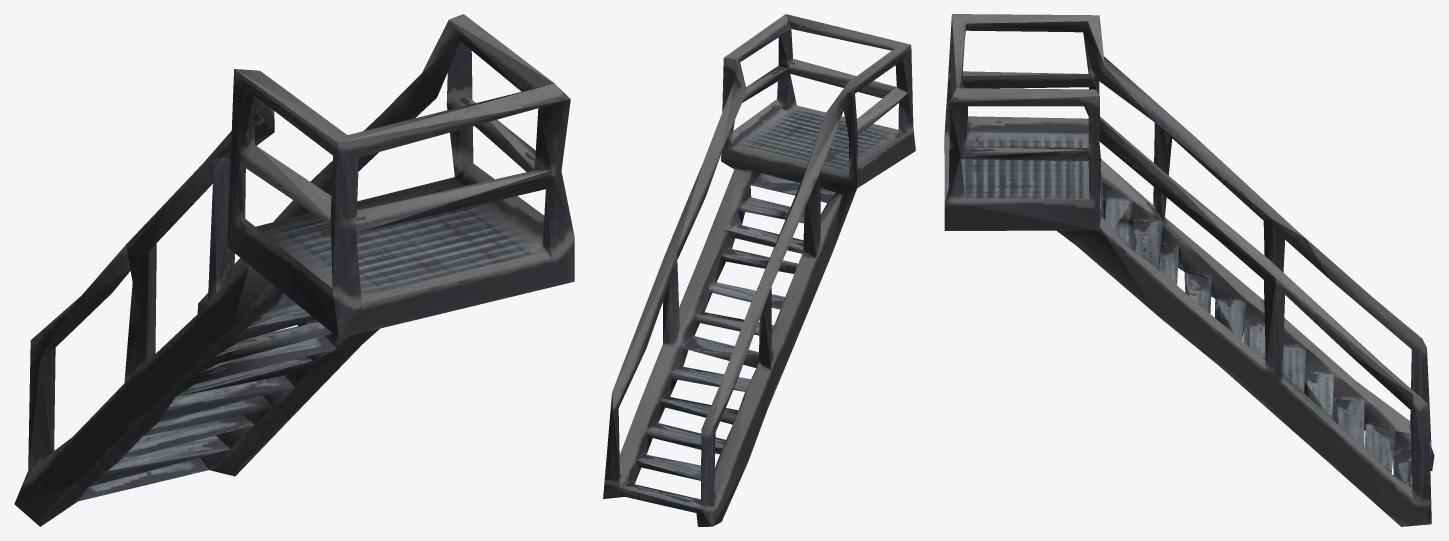
Rendered from metal-industrial-stairwell.glb.
The picture shows the model from 3 angles, left to right: view 1: azimuth 30°, elevation 25°; view 2: azimuth 150°, elevation 25°; view 3: azimuth 270°, elevation 25°; orthographic projection. The views are drawn at different scales.
Parts seen in each view (by area): view 1: geometry_0.001; view 2: geometry_0.001; view 3: geometry_0.001.
Boxes of the visible parts, x1,y1,x2,y2 form: geometry_0.001: (14, 14, 574, 526); geometry_0.001: (603, 14, 915, 526); geometry_0.001: (944, 14, 1434, 526).
Bounding box in the file's own units: 0.4057 × 0.9988 × 0.997.
Materials: 1 (1 with a texture image).
